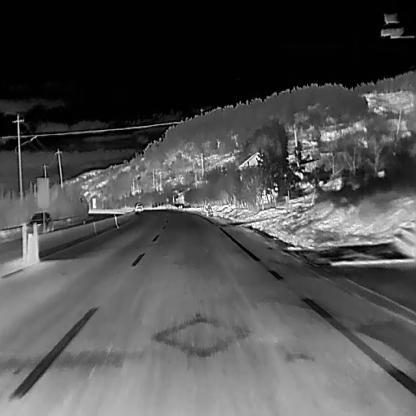car: (25, 210, 52, 236), (133, 200, 143, 212)
